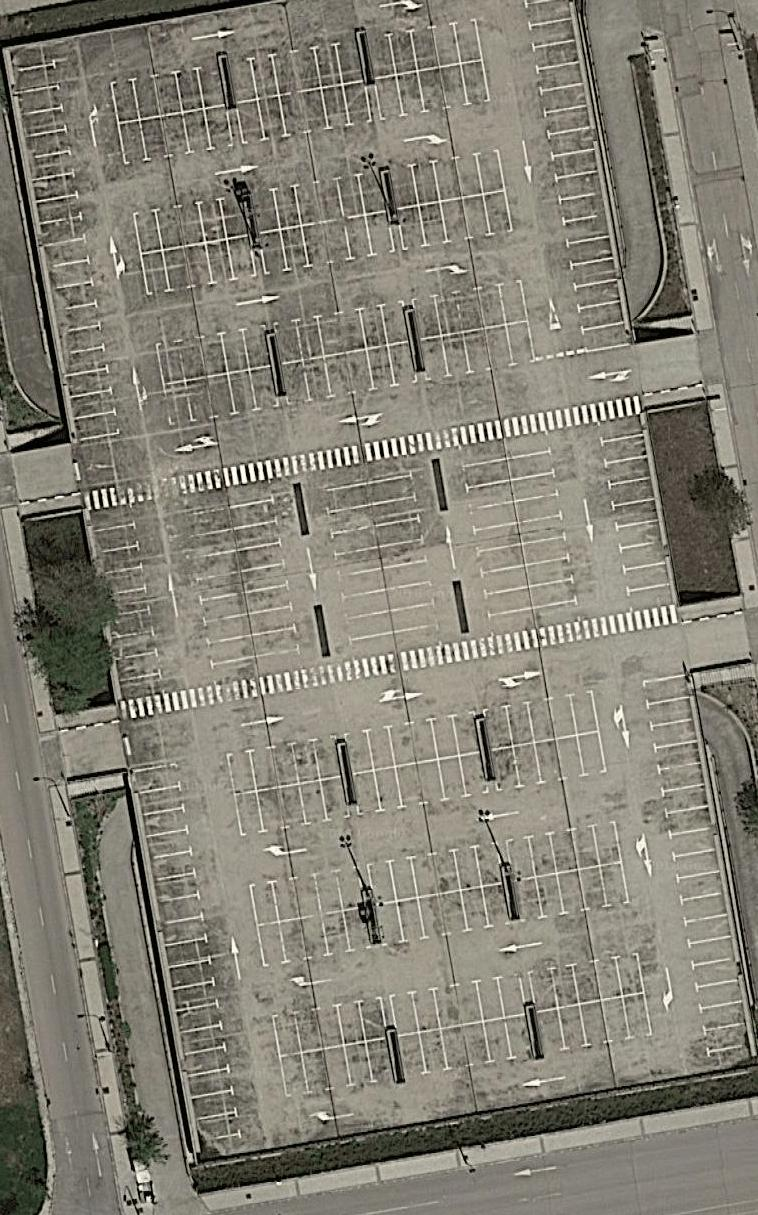parkingspot: (7, 40, 123, 446), (130, 761, 247, 1161), (640, 671, 754, 1074), (522, 0, 631, 355), (455, 435, 539, 639), (361, 452, 445, 655), (317, 461, 400, 663), (501, 427, 582, 631), (224, 477, 305, 679), (595, 411, 675, 615), (180, 485, 260, 688), (87, 500, 167, 702), (395, 1011, 537, 1081), (272, 295, 411, 365), (255, 209, 397, 277), (227, 36, 366, 105), (366, 839, 506, 907), (373, 881, 513, 949), (278, 339, 419, 406), (388, 971, 529, 1038), (350, 750, 490, 817), (248, 168, 387, 235), (343, 709, 482, 776), (534, 990, 654, 1058), (108, 61, 230, 125), (365, 15, 483, 81), (416, 319, 537, 383), (410, 277, 531, 341), (510, 860, 631, 924), (132, 190, 251, 255), (488, 729, 607, 794), (255, 904, 374, 969), (527, 949, 646, 1014), (270, 994, 389, 1059), (504, 818, 624, 882), (388, 146, 506, 211), (278, 1035, 396, 1100), (481, 688, 600, 752), (248, 863, 367, 927), (160, 363, 280, 426), (139, 233, 257, 297), (154, 322, 272, 386), (225, 732, 342, 796), (233, 775, 351, 838)
